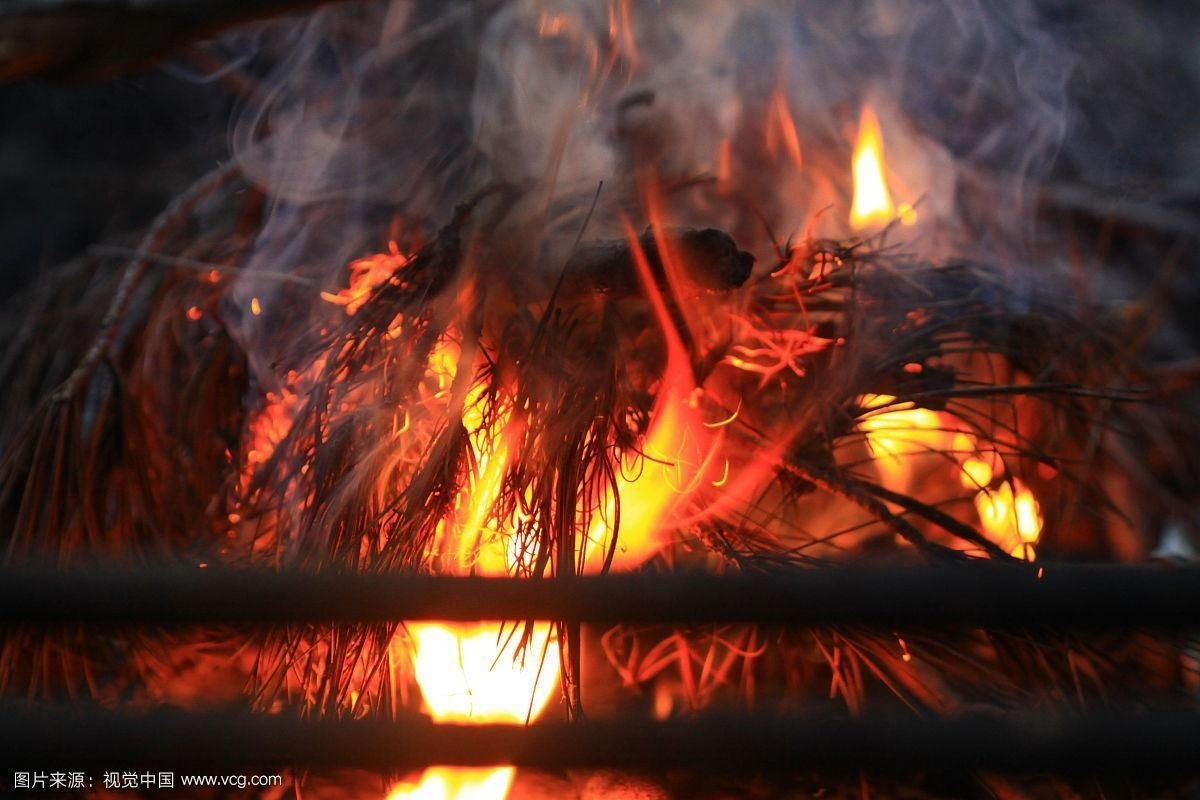fire: (412, 333, 556, 577), (856, 394, 1049, 563), (407, 614, 563, 724), (846, 105, 900, 228), (382, 763, 517, 800)
